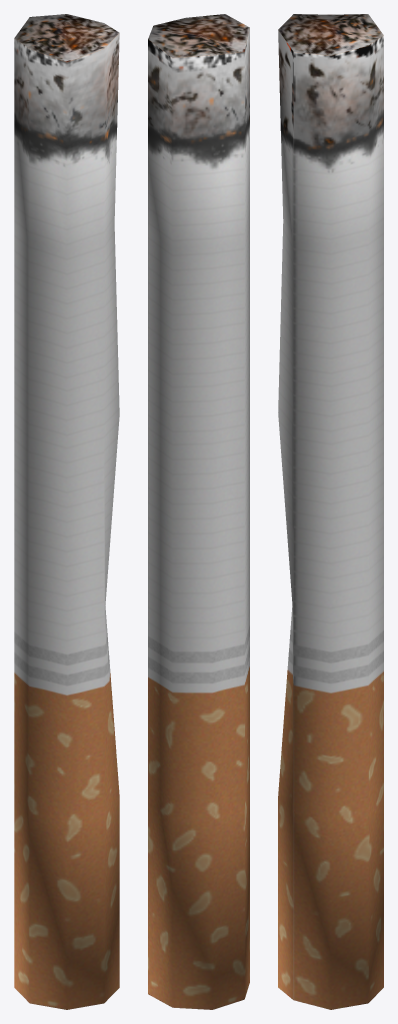
The model's file is Cigarettes.fbx.
3 views of the same model, side by side, from view 1: azimuth 90°, elevation 25°; view 2: azimuth 150°, elevation 25°; view 3: azimuth 270°, elevation 25° (orthographic).
Parts seen in each view (by area): view 1: Cigarettes; view 2: Cigarettes; view 3: Cigarettes.
Part boxes in pixels (box(x1,y1,x2,y2)): Cigarettes: box(14, 14, 119, 1009); Cigarettes: box(148, 14, 249, 1009); Cigarettes: box(278, 14, 383, 1009).
Bounding box in the file's own units: 0.7 × 7 × 0.7.
Materials: 1 (1 with a texture image).
